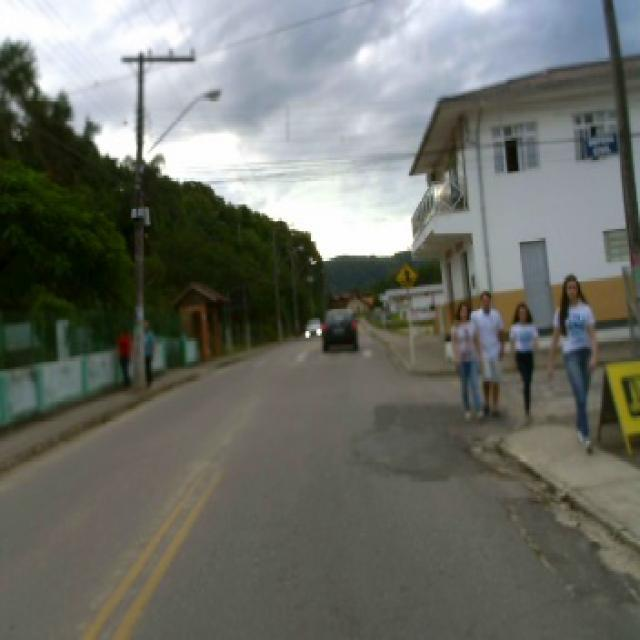Poth-hole: (526, 491, 630, 576), (494, 493, 576, 598), (458, 440, 515, 478), (469, 433, 482, 440)
